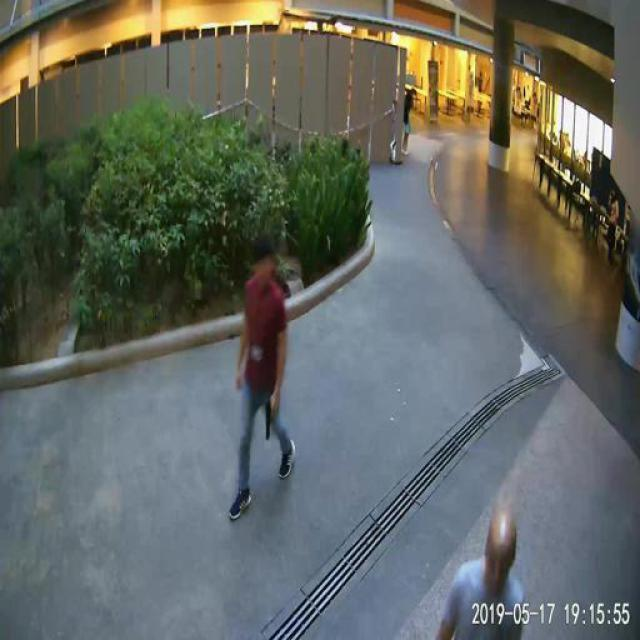weapon: (264, 398, 276, 440)
